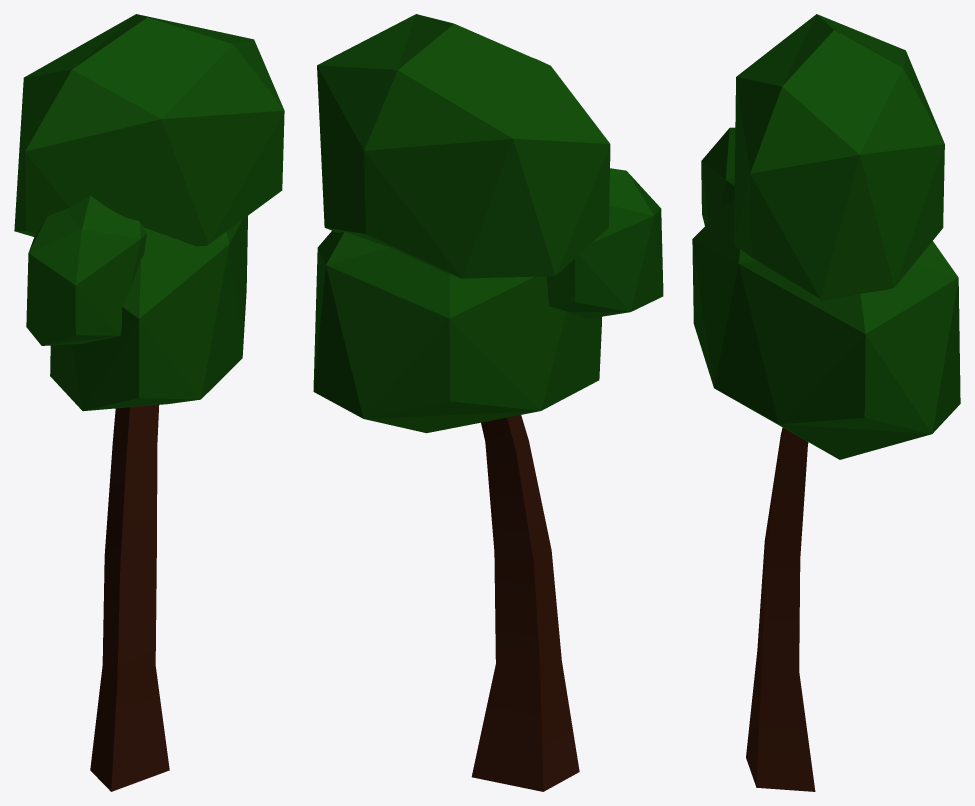
Rendered from tree_1.FBX.
The picture shows the model from 3 angles, left to right: view 1: azimuth 30°, elevation 25°; view 2: azimuth 150°, elevation 25°; view 3: azimuth 270°, elevation 25°; orthographic projection. The views are drawn at different scales.
Parts seen in each view (by area): view 1: tree1; view 2: tree1; view 3: tree1.
Part boxes in pixels (x1,y1,x2,y2): tree1: (14,14,284,791); tree1: (313,14,663,791); tree1: (692,14,960,791).
Size of the model in its own units: 41.7 by 105 by 33.37.
